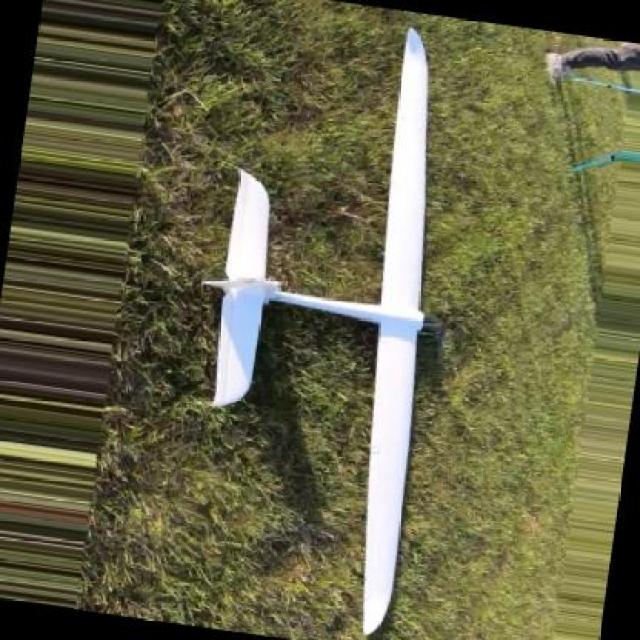iha: (201, 15, 444, 634)
